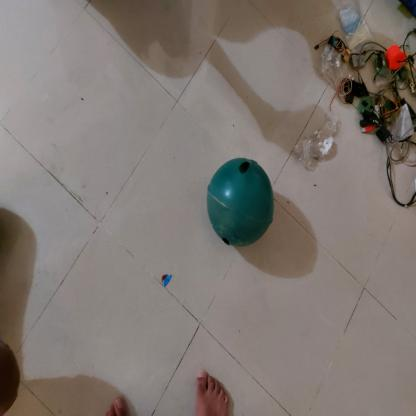green_buoy: (205, 156, 278, 251)
